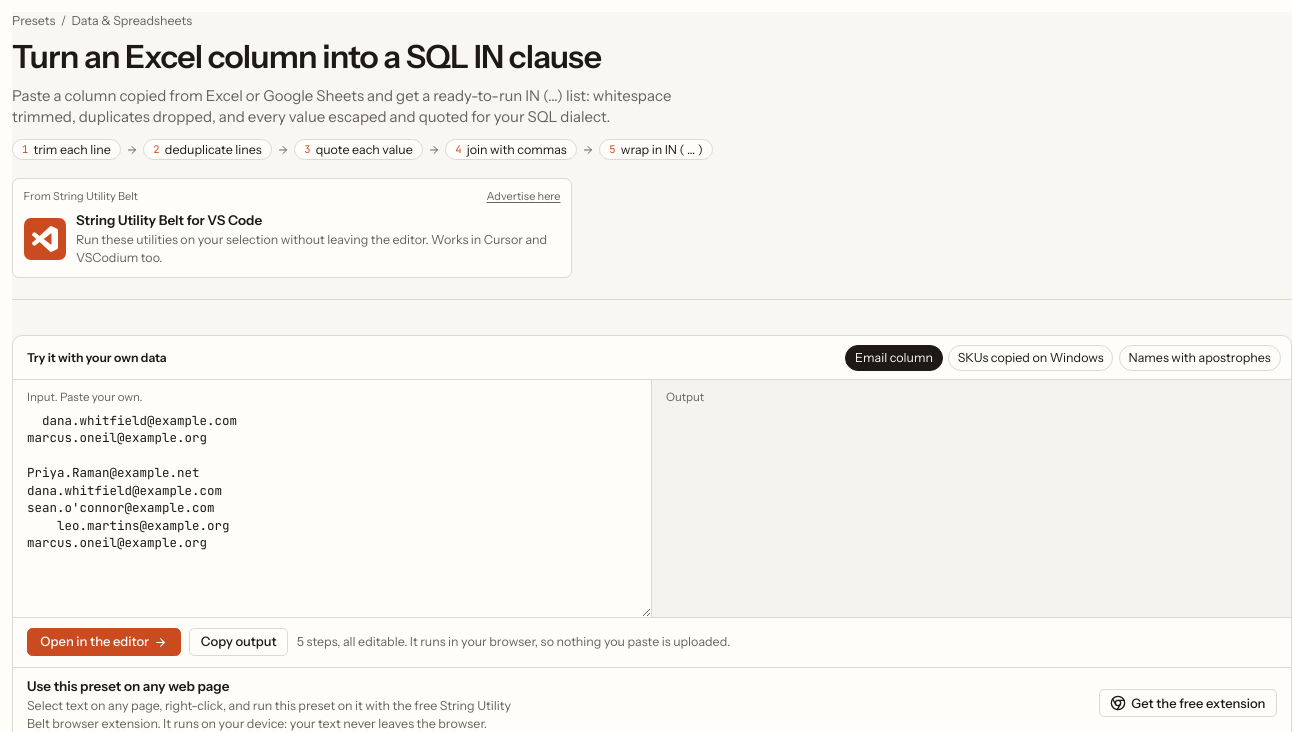
Test case: PresetPage › switches to another example and runs it
This screenshot has width=1292, height=732.
Click the button "SKUs copied on Windows".
click(1031, 358)  # box [948,344,1114,370]
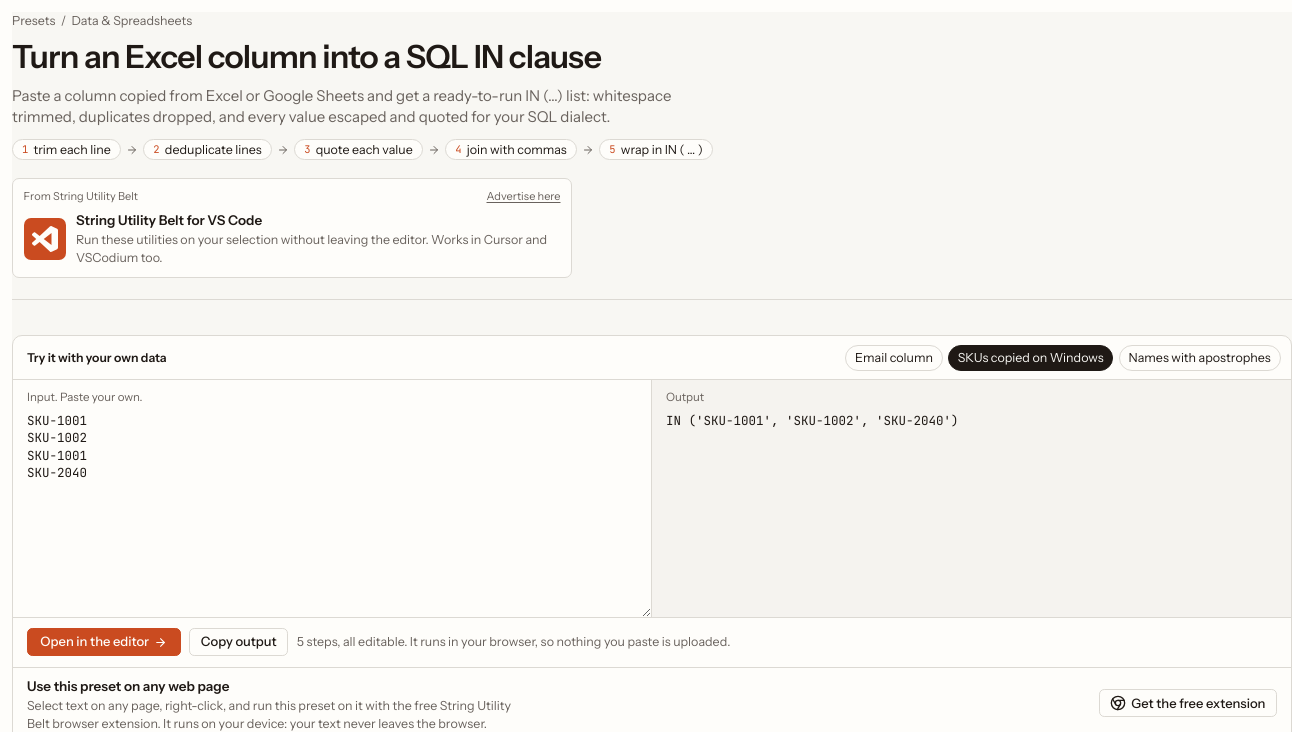
Now the message named "Output" reads "IN ('SKU-1001', 'SKU-1002', 'SKU-2040')", box [666,412,958,429]
